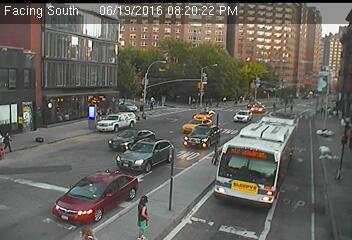neg: (213, 43, 228, 63), (64, 174, 78, 193), (290, 137, 304, 155), (106, 120, 120, 138), (93, 41, 106, 58), (57, 47, 70, 64), (32, 143, 45, 160), (290, 41, 302, 57), (136, 39, 147, 54), (42, 108, 53, 123), (259, 140, 269, 153), (165, 12, 175, 25), (73, 133, 83, 146), (232, 137, 241, 150), (18, 78, 27, 90), (260, 46, 267, 56), (177, 49, 184, 59), (200, 131, 206, 139)
pos: (124, 189, 161, 239), (221, 93, 230, 105), (270, 100, 278, 111), (289, 104, 295, 112)
